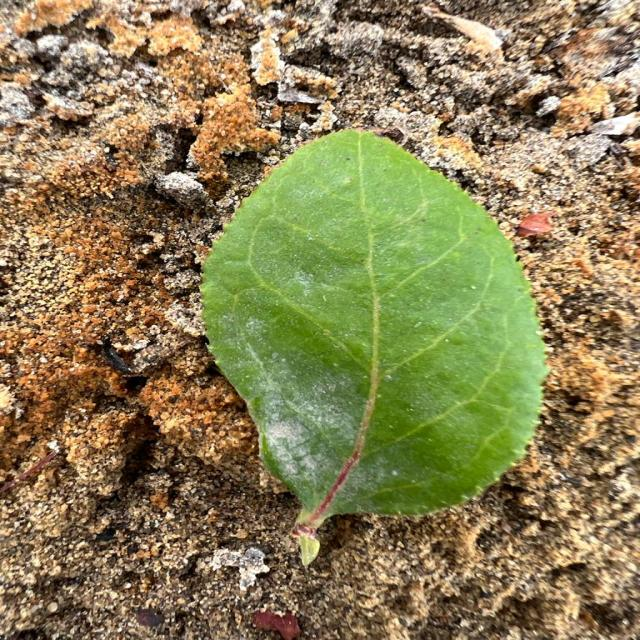Hojas con oidiosis: (198, 126, 549, 528)
